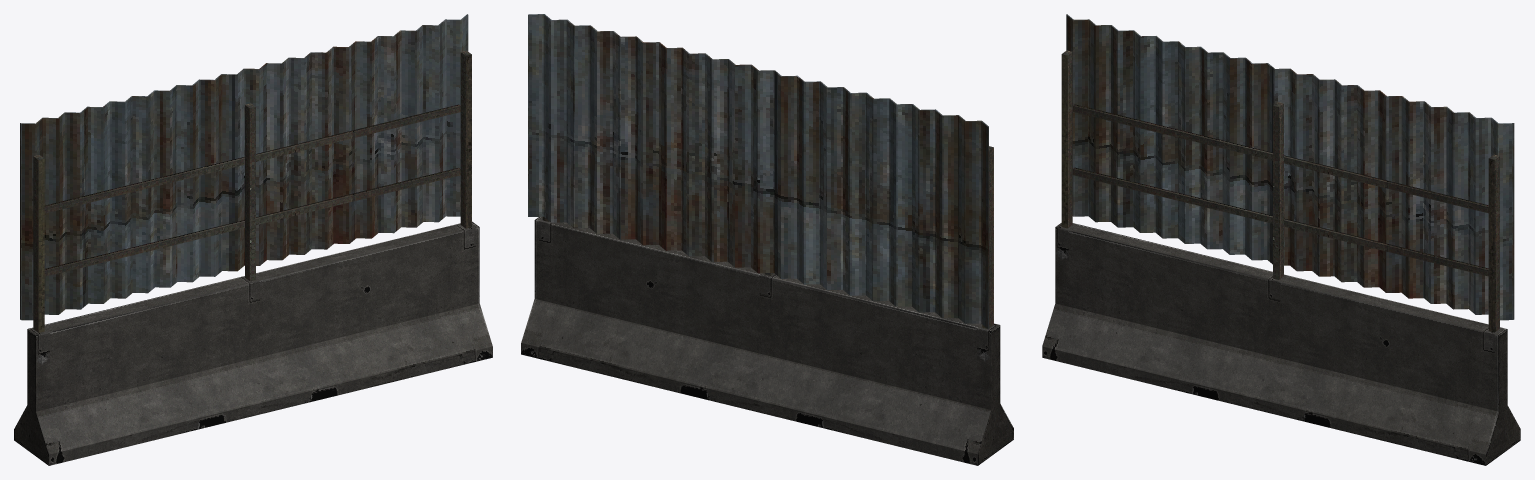
File: barricade_b_4.glb
The picture shows the model from 3 angles, left to right: view 1: azimuth 30°, elevation 25°; view 2: azimuth 150°, elevation 25°; view 3: azimuth 330°, elevation 25°; orthographic projection. The views are drawn at different scales.
Parts seen in each view (by area): view 1: barricade_b_4; view 2: barricade_b_4; view 3: barricade_b_4.
Boxes of the visible parts, x1,y1,x2,y2 form: barricade_b_4: (14, 14, 492, 465); barricade_b_4: (521, 14, 1013, 465); barricade_b_4: (1042, 14, 1520, 465).
Bounding box in the file's own units: 2.96 × 2.05 × 0.4.
Materials: 3 (3 with a texture image).
